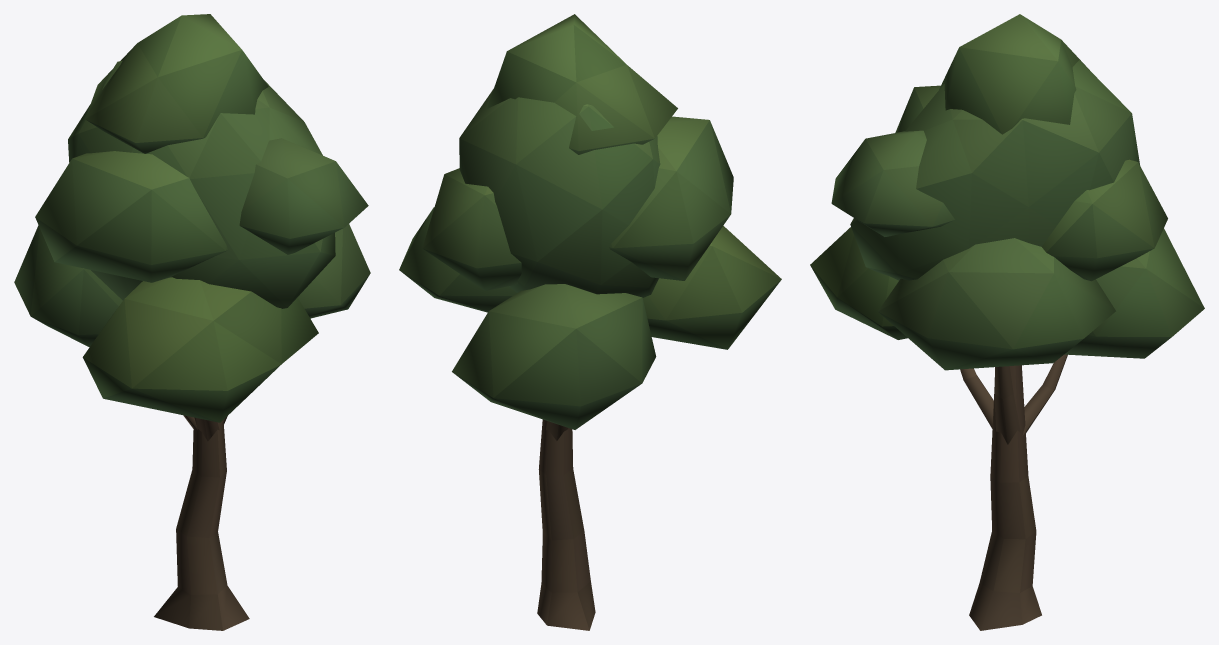
File: oak.glb
The picture shows the model from 3 angles, left to right: view 1: azimuth 30°, elevation 25°; view 2: azimuth 150°, elevation 25°; view 3: azimuth 270°, elevation 25°; orthographic projection.
Visible parts, largest first — view 1: oak; view 2: oak; view 3: oak.
Part boxes in pixels (<box>): oak: <box>14,14,370,630</box>; oak: <box>399,14,781,630</box>; oak: <box>810,14,1204,630</box>.
Bounding box in the file's own units: 3.66 × 7 × 4.22.
